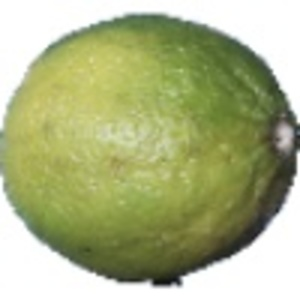limão: (1, 12, 300, 288)
